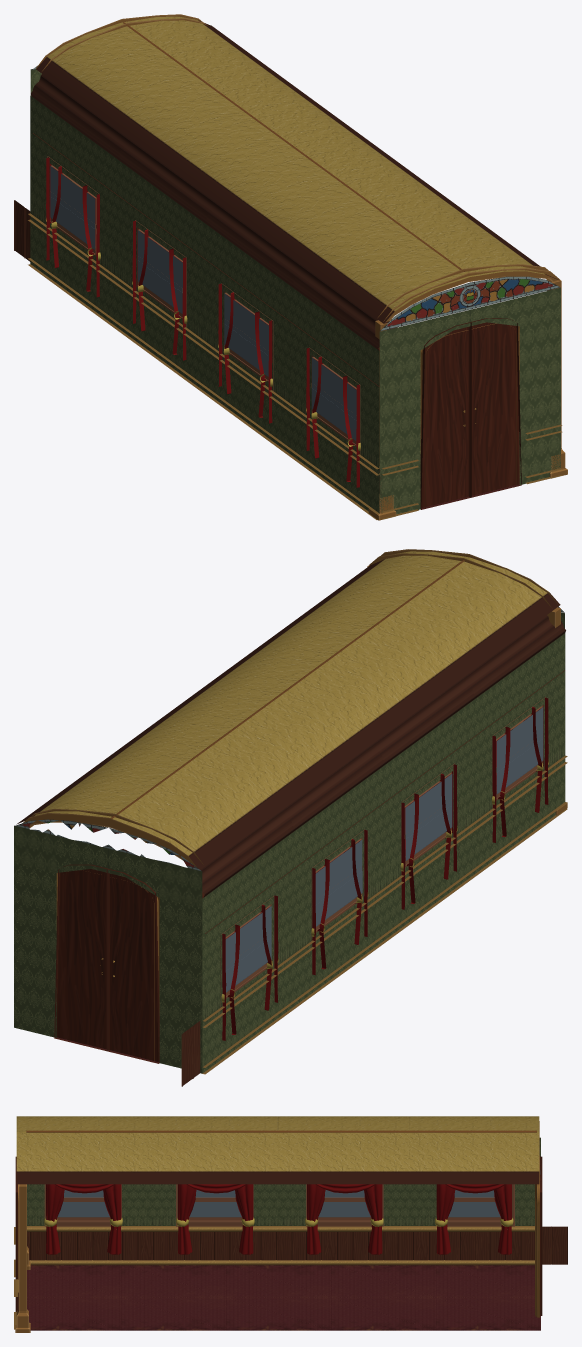
File: 1_8_SHELL.fbx
3 renders of one model, top to bottom at view 1: azimuth 30°, elevation 25°; view 2: azimuth 150°, elevation 25°; view 3: azimuth 270°, elevation 25°, orthographic. The views are drawn at different scales.
Parts seen in each view (by area): view 1: Wall_Ref_GRP4, Wall_Ref_GRP6, Wall_Ref_GRP3, Wall_Ref_GRP8, Wall_Ref_GRP7, Roof3, Roof4, Roof5, Roof, Door2, Door1, Roof8 (+18 smaller); view 2: Wall_Ref_GRP12, Wall_Ref_GRP7, Wall_Ref_GRP6, Wall_Ref_GRP3, Wall_Ref_GRP8, Roof4, Roof3, Roof, Roof5, Door3, Door4, Roof8 (+16 smaller); view 3: FloorRef2, FloorRef3, Roof6, Roof9, Roof7, Roof8, FloorRef4, FloorRef5, FloorRef1, WindowGlassSlide1 (×4), polySurface1 (×4), polySurface2 (×4) (+31 smaller).
Boxes of the visible parts, bbox=[...] form: Wall_Ref_GRP4: bbox=[379, 287, 560, 514]; Wall_Ref_GRP6: bbox=[205, 223, 292, 455]; Wall_Ref_GRP3: bbox=[292, 287, 379, 513]; Wall_Ref_GRP8: bbox=[30, 95, 117, 327]; Wall_Ref_GRP7: bbox=[117, 159, 204, 391]; Roof3: bbox=[210, 150, 382, 259]; Roof4: bbox=[123, 86, 295, 196]; Roof5: bbox=[36, 22, 208, 132]; Roof: bbox=[297, 213, 469, 323]; Door2: bbox=[470, 318, 521, 497]; Door1: bbox=[420, 322, 471, 509]; Roof8: bbox=[211, 80, 385, 153]; Wall_Ref_GRP12: bbox=[14, 825, 202, 1073]; Wall_Ref_GRP7: bbox=[293, 766, 383, 1006]; Wall_Ref_GRP6: bbox=[383, 700, 474, 940]; Wall_Ref_GRP3: bbox=[474, 633, 565, 874]; Wall_Ref_GRP8: bbox=[202, 832, 292, 1073]; Roof4: bbox=[200, 689, 379, 803]; Roof3: bbox=[290, 622, 469, 736]; Roof: bbox=[381, 557, 560, 670]; Roof5: bbox=[113, 755, 289, 869]; Door3: bbox=[54, 864, 107, 1050]; Door4: bbox=[107, 868, 159, 1063]; Roof8: bbox=[106, 682, 287, 758]; FloorRef2: bbox=[121, 1265, 226, 1330]; FloorRef3: bbox=[226, 1265, 331, 1330]; Roof6: bbox=[16, 1132, 147, 1184]; Roof9: bbox=[408, 1132, 539, 1184]; Roof7: bbox=[147, 1132, 277, 1184]; Roof8: bbox=[278, 1132, 408, 1184]; FloorRef4: bbox=[331, 1265, 435, 1330]; FloorRef5: bbox=[436, 1265, 540, 1330]; FloorRef1: bbox=[27, 1265, 121, 1330]; WindowGlassSlide1 (×4): bbox=[57, 1197, 500, 1220]; polySurface1 (×4): bbox=[46, 1184, 455, 1254]; polySurface2 (×4): bbox=[103, 1184, 511, 1254].
Size of the model in its own units: 319 by 354 by 1057.
